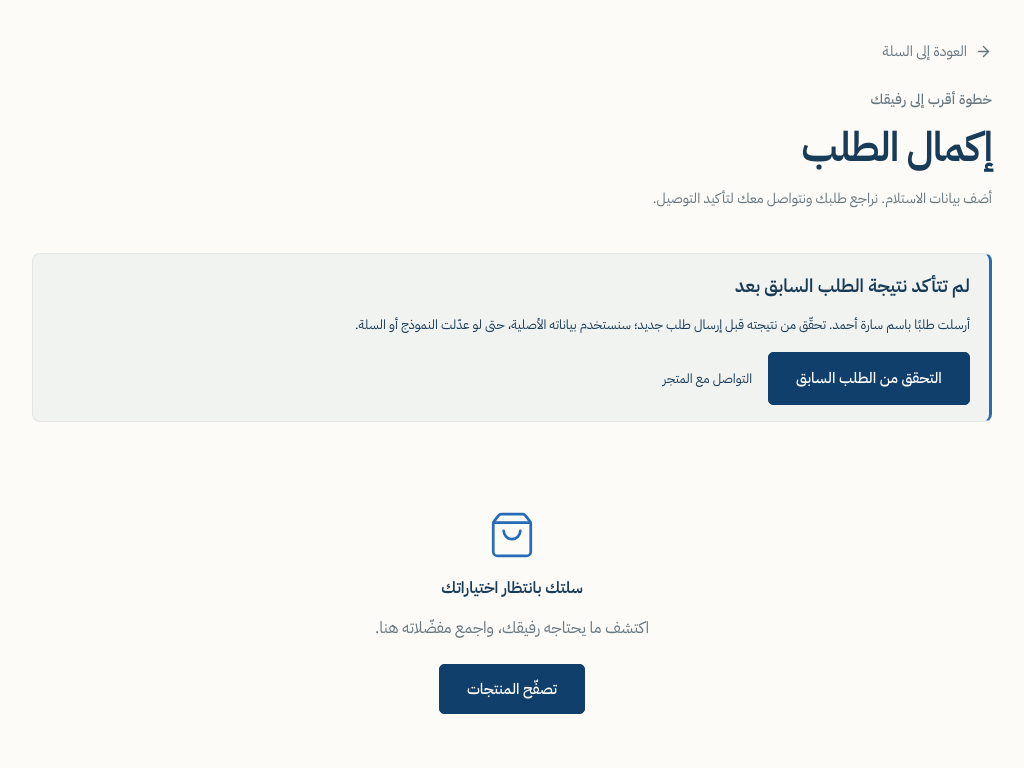
it: checkout validation and recovery › replays a legacy saved order through checkout unchanged even when checkout is now disabled
Click the button "التحقق من الطلب السابق": (869, 379) [768, 352, 970, 405]
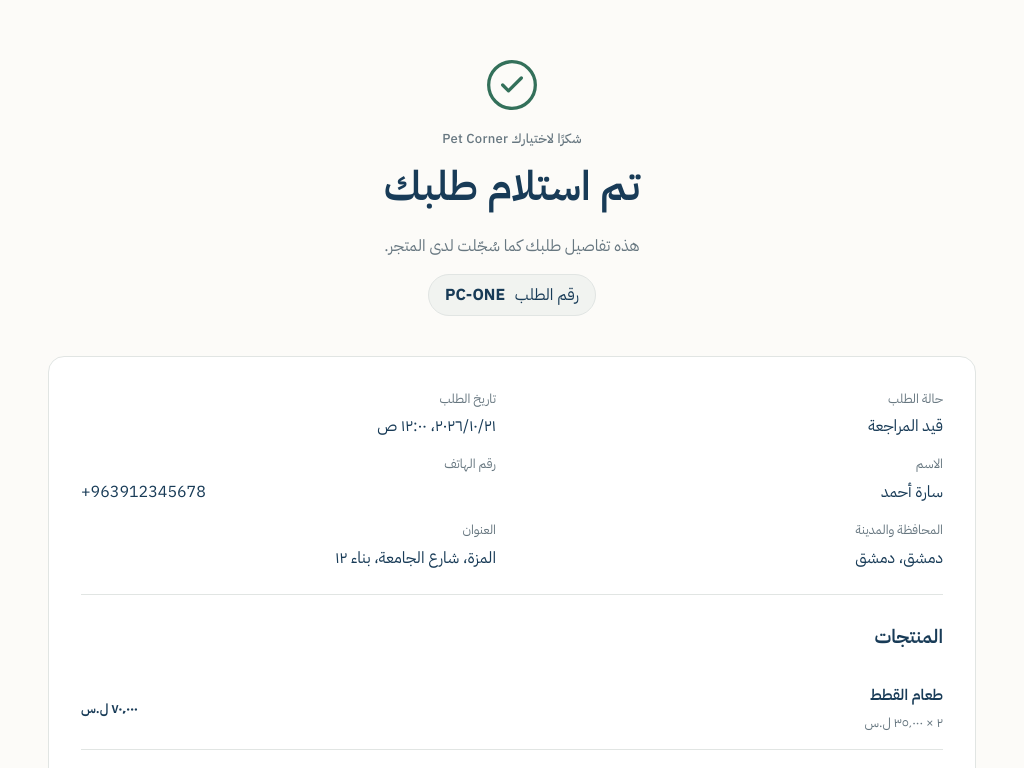
Expected: the heading "تم استلام طلبك" is shown, [384, 156, 640, 218]
